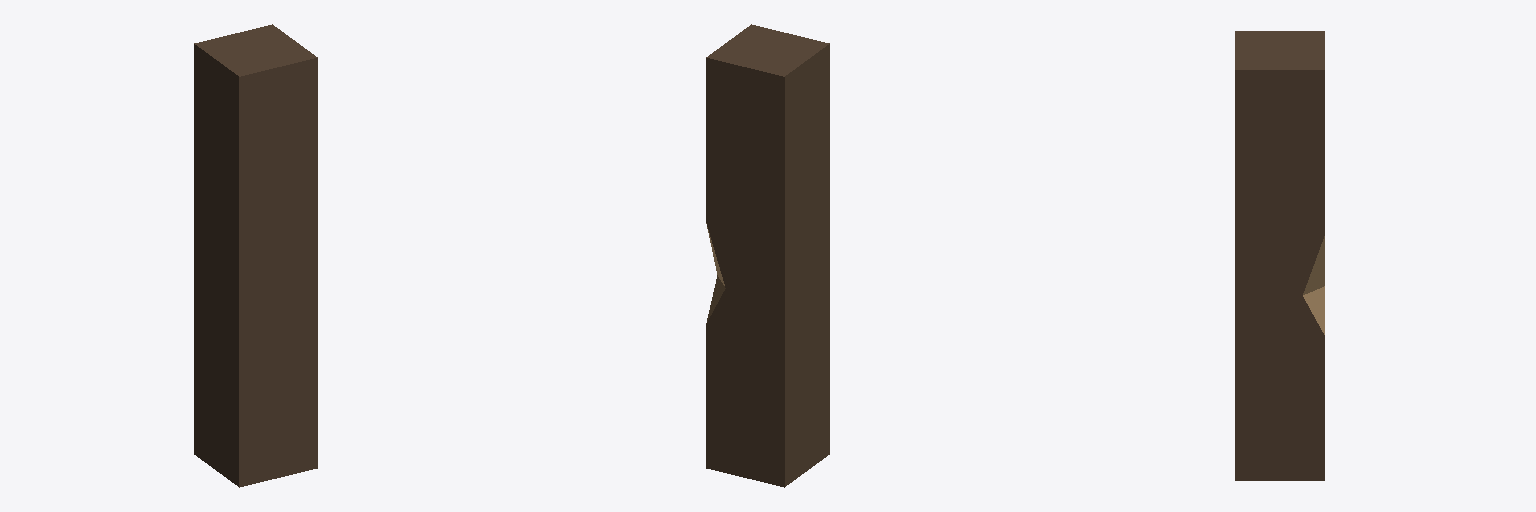
Rendered from Stucco_Prop_Support_Pillar_2.obj.
3 views of the same model, side by side, from view 1: azimuth 30°, elevation 25°; view 2: azimuth 150°, elevation 25°; view 3: azimuth 270°, elevation 25° (orthographic).
Visible parts, largest first — view 1: object1; view 2: object1; view 3: object1.
Boxes of the visible parts, <box> form: object1: <box>194,24,317,487</box>; object1: <box>706,24,829,487</box>; object1: <box>1235,31,1324,480</box>.
Size of the model in its own units: 0.2 by 1 by 0.2.